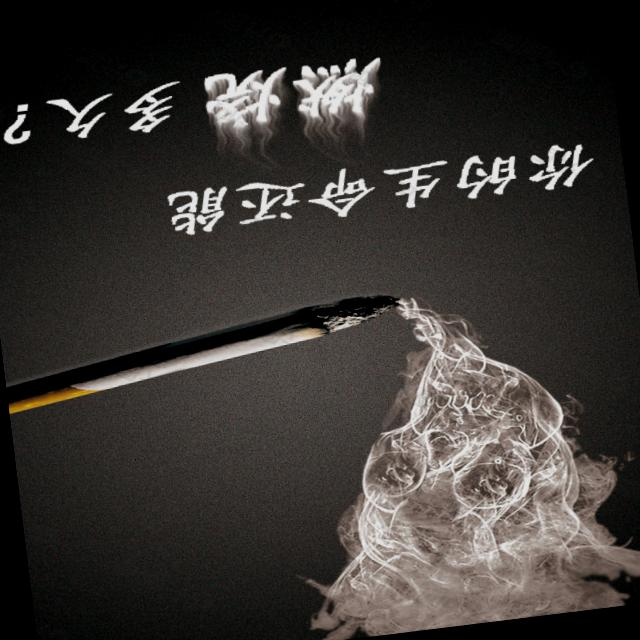cigarette: (1, 292, 412, 418)
